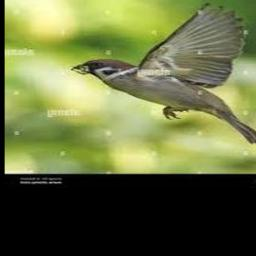Sparrow: (72, 3, 256, 143)
